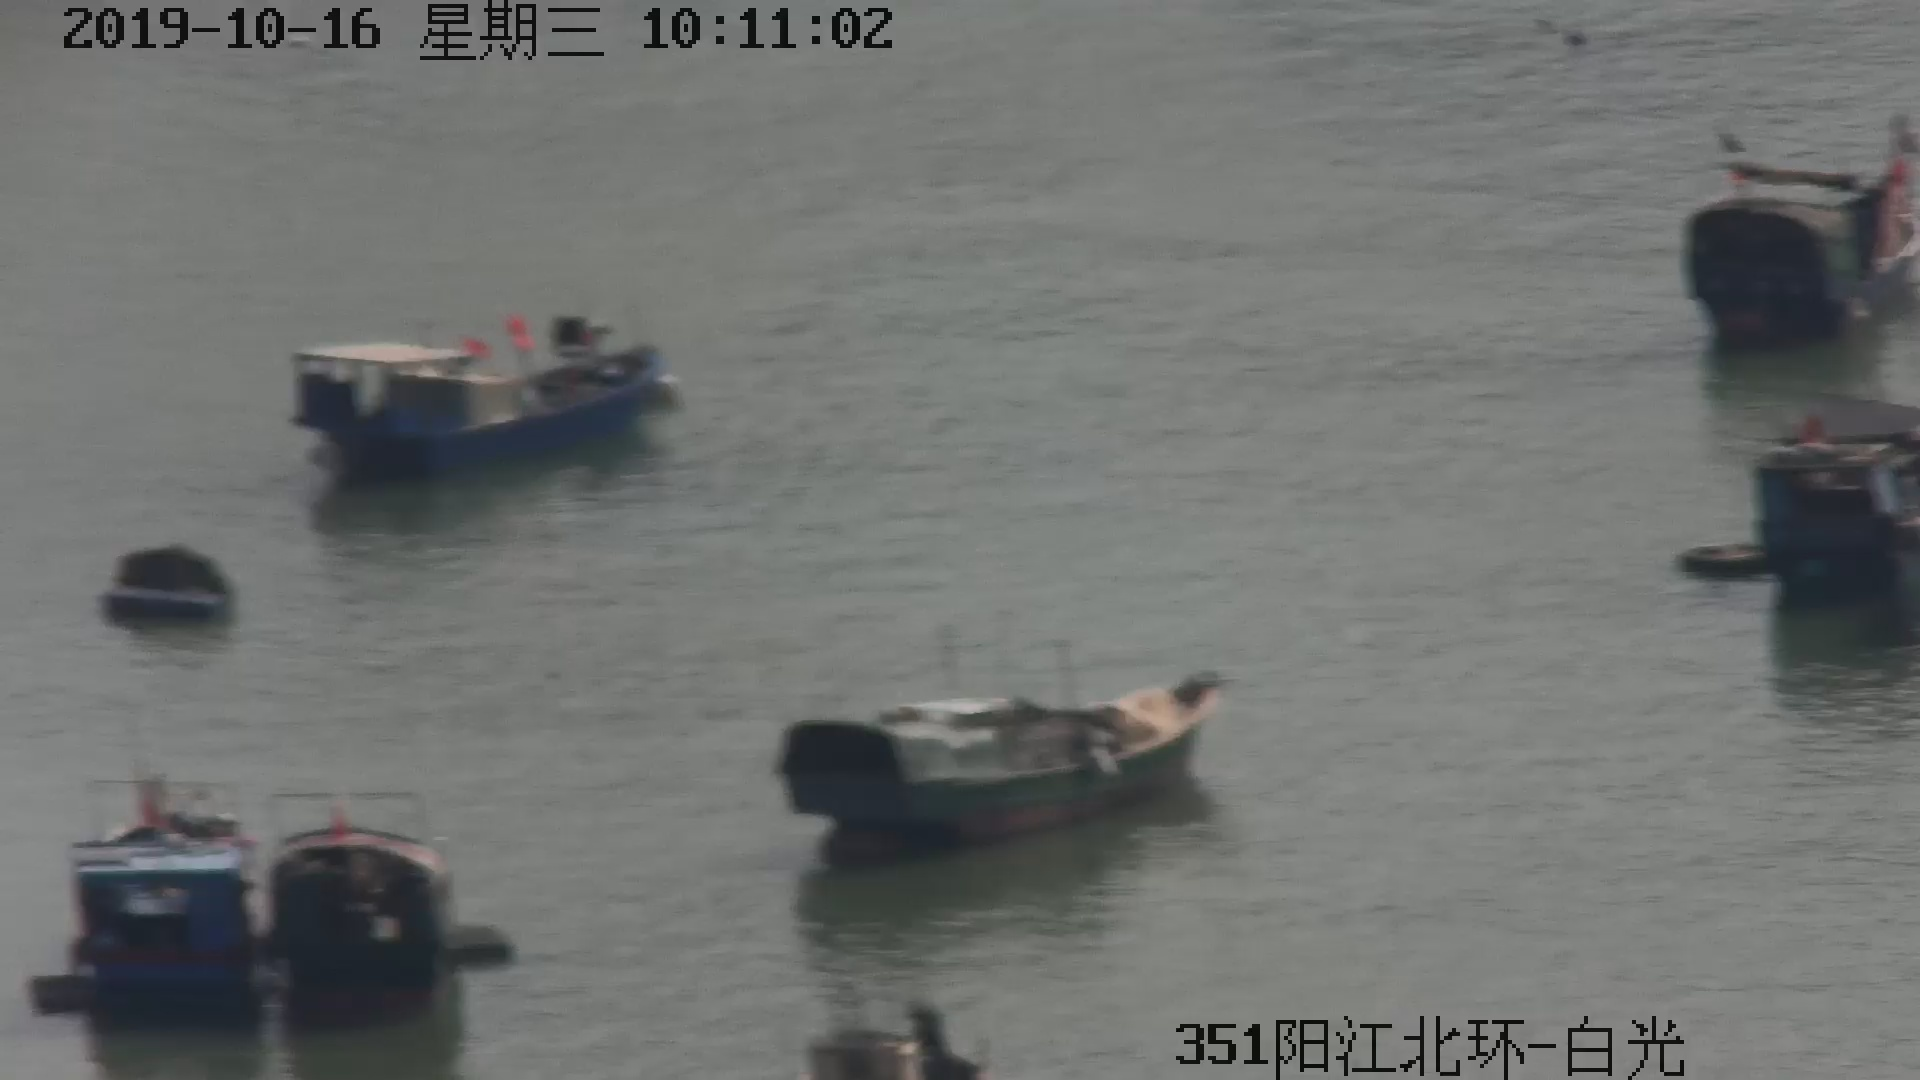ship: (777, 674, 1229, 877), (284, 319, 676, 488), (65, 779, 276, 1017), (1683, 136, 1911, 355), (265, 793, 472, 1025), (1734, 404, 1916, 616)
